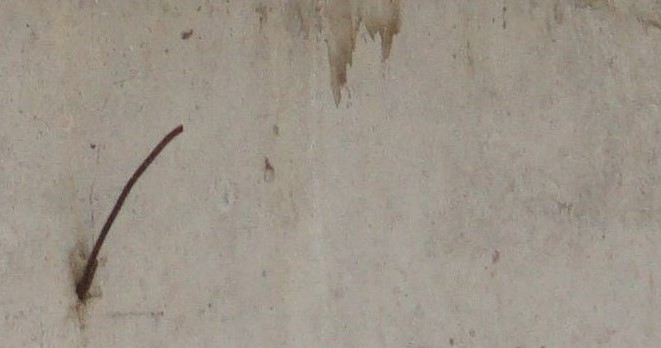Exposed reinforcement: (75, 123, 184, 301)
